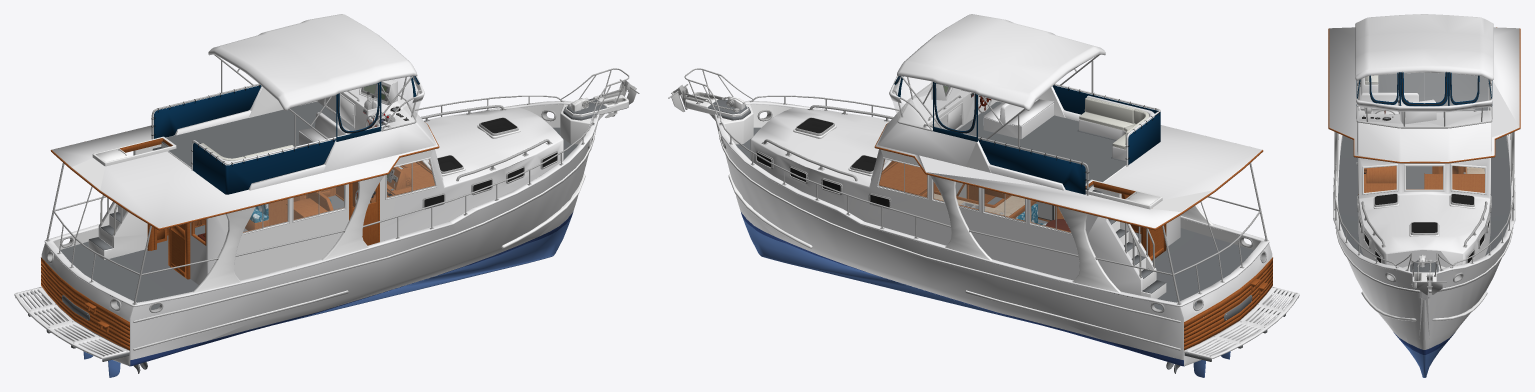
The model's file is flybridge.glb.
3 views of the same model, side by side, from view 1: azimuth 30°, elevation 25°; view 2: azimuth 150°, elevation 25°; view 3: azimuth 270°, elevation 25° (orthographic). The views are drawn at different scales.
Parts seen in each view (by area): view 1: cabin, deco_grand_base, topside_starboard, flybridge, deco_grand_other_02, deco_grand_wood_01, deco_grand_other_01, deck, deco_grand_clear_glass, bottom, transom, deco_grand_dark_glass (+1 smaller); view 2: cabin, deco_grand_base, topside_port, flybridge, deco_grand_other_02, deco_grand_wood_01, deck, deco_grand_clear_glass, deco_grand_other_01, bottom, transom, deco_grand_dark_glass (+1 smaller); view 3: flybridge, cabin, deco_grand_other_02, deco_grand_base, deco_grand_clear_glass, topside_starboard, topside_port, deco_grand_wood_01, deck, deco_grand_other_01, deco_grand_dark_glass, bottom (+1 smaller).
Part boxes in pixels (x1,y1,x2,y2): cabin: (52,107,563,284); deco_grand_base: (16,54,639,356); topside_starboard: (130,115,599,359); flybridge: (174,14,435,190); deco_grand_other_02: (15,98,606,361); deco_grand_wood_01: (41,122,439,350); deco_grand_other_01: (154,76,419,222); deck: (14,100,599,358); deco_grand_clear_glass: (243,76,434,232); bottom: (276,217,571,324); transom: (41,243,133,365); deco_grand_dark_glass: (424,118,556,207); cabin: (750,107,1261,295); deco_grand_base: (668,54,1297,356); topside_port: (714,115,1183,360); flybridge: (878,14,1160,190); deco_grand_other_02: (707,93,1298,361); deco_grand_wood_01: (874,122,1272,350); deck: (714,100,1299,358); deco_grand_clear_glass: (879,76,1070,232); deco_grand_other_01: (894,76,1160,225); bottom: (742,217,1034,323); transom: (1180,243,1272,365); deco_grand_dark_glass: (757,118,889,207); flybridge: (1355,14,1493,161); cabin: (1329,27,1519,276); deco_grand_other_02: (1338,72,1510,272); deco_grand_base: (1334,72,1514,322); deco_grand_clear_glass: (1357,72,1491,126); topside_starboard: (1336,229,1423,349); topside_port: (1425,229,1512,349); deco_grand_wood_01: (1328,27,1520,194); deck: (1333,134,1515,349); deco_grand_other_01: (1369,72,1484,173); deco_grand_dark_glass: (1359,194,1489,262); bottom: (1401,341,1447,377).
Size of the model in its own units: 12.8 by 5.59 by 4.06.
13 materials, 4 textured.
